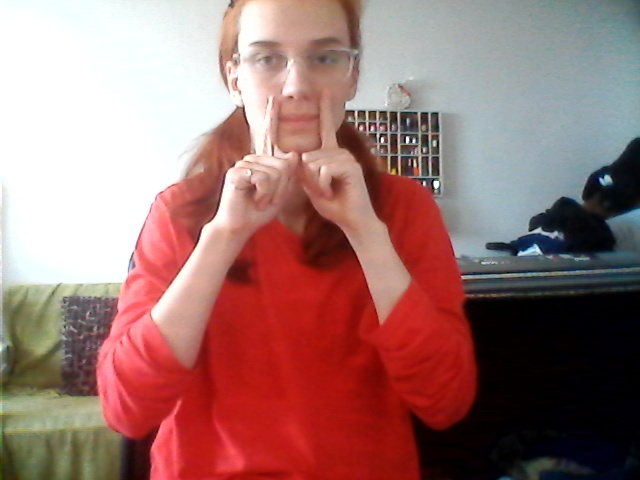h: (238, 94, 366, 228)
